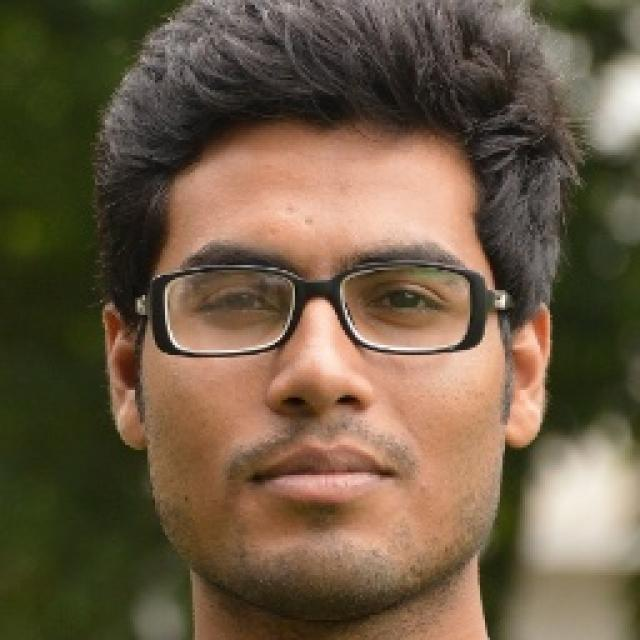glasses: (125, 251, 532, 371)
